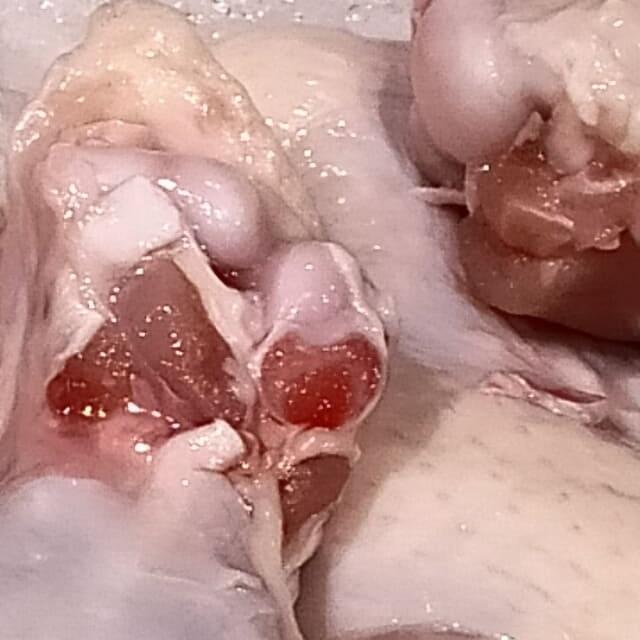chicken: (0, 103, 512, 640), (394, 0, 640, 528)
